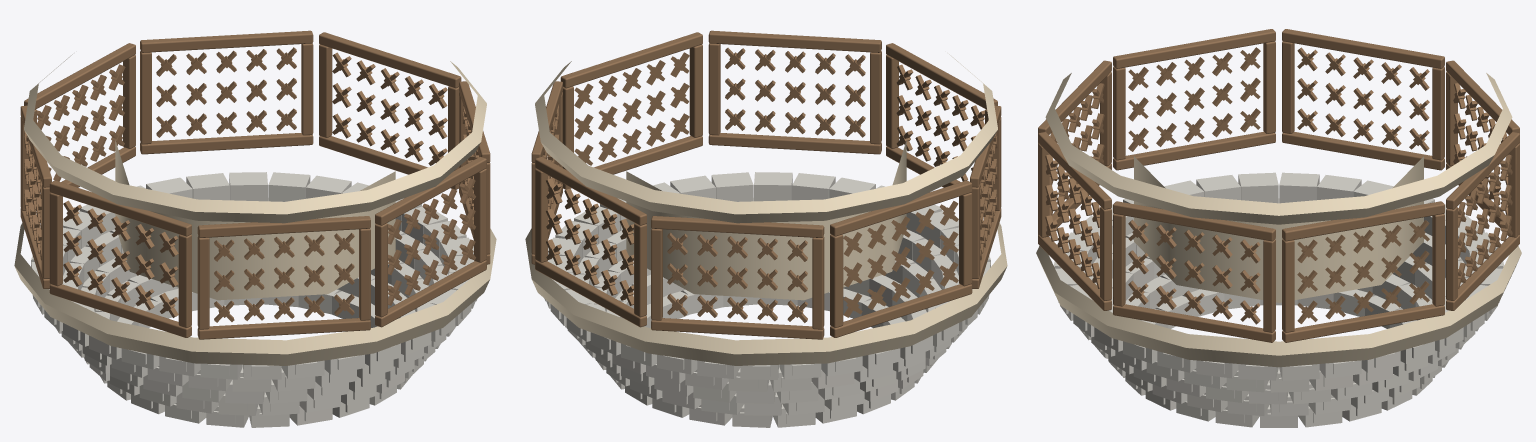
Rendered from minaret-balcony-9a344d8f.glb.
3 renders of one model, left to right at view 1: azimuth 30°, elevation 25°; view 2: azimuth 150°, elevation 25°; view 3: azimuth 270°, elevation 25°, orthographic.
Parts seen in each view (by area): view 1: minaret-balcony; view 2: minaret-balcony; view 3: minaret-balcony.
Boxes of the visible parts, box(x1,y1,x2,y2) form: minaret-balcony: box(14, 30, 496, 427); minaret-balcony: box(525, 30, 1007, 427); minaret-balcony: box(1036, 29, 1521, 427).
Size of the model in its own units: 3.08 by 1.76 by 3.08.
